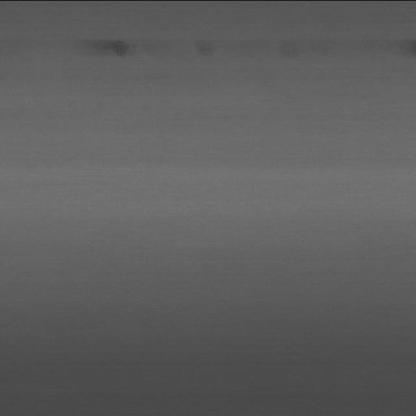oil_spot: (80, 34, 130, 64)
